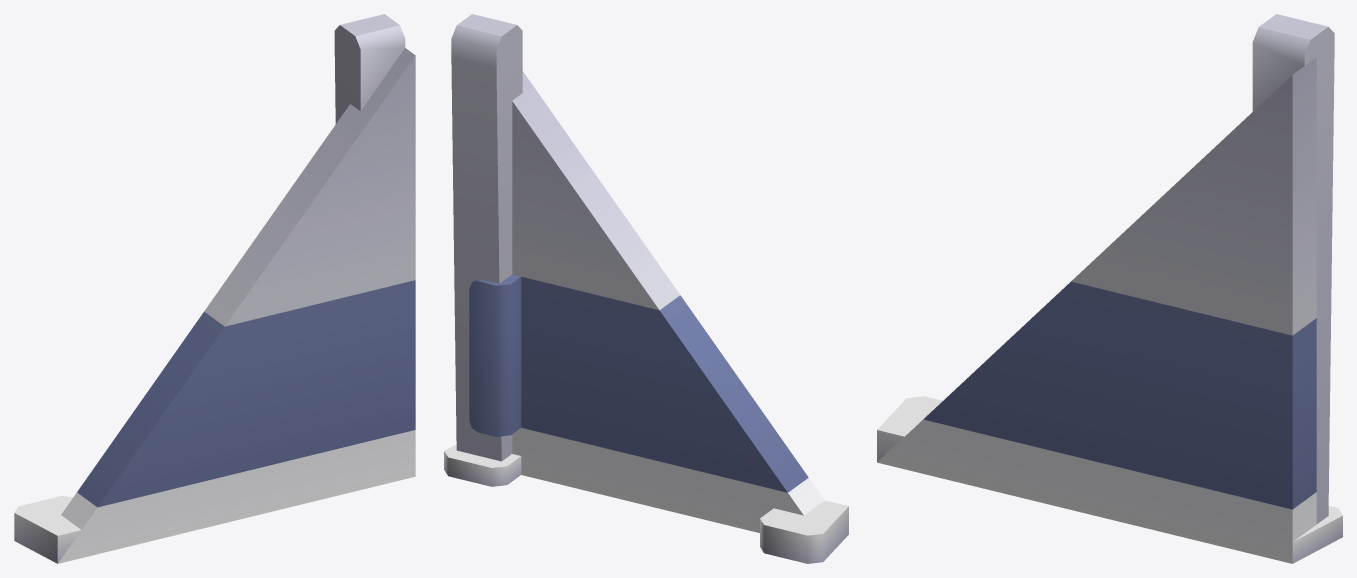
File: template-wall-stairs.glb
3 renders of one model, left to right at view 1: azimuth 30°, elevation 25°; view 2: azimuth 150°, elevation 25°; view 3: azimuth 330°, elevation 25°, orthographic. The views are drawn at different scales.
Visible parts, largest first — view 1: template-wall-stairs; view 2: template-wall-stairs; view 3: template-wall-stairs.
Part boxes in pixels (x1,y1,x2,y2): template-wall-stairs: (14,14,415,563); template-wall-stairs: (444,14,848,563); template-wall-stairs: (877,14,1342,563).
Size of the model in its own units: 4.2 by 4.7 by 0.7751.
1 material, 1 textured.
